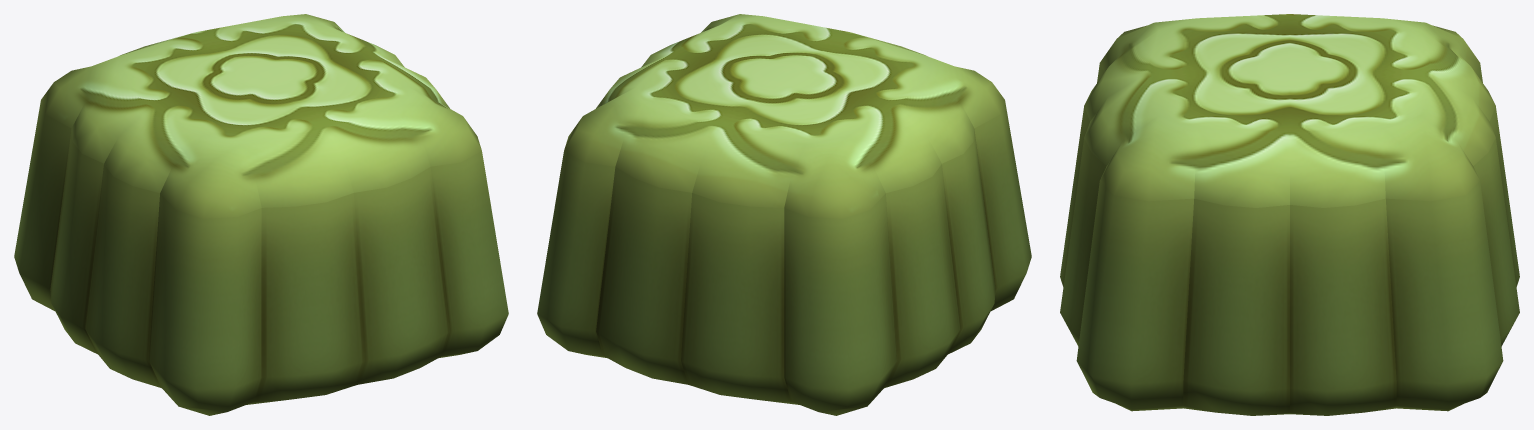
The model's file is 010-Mooncakes_004.FBX.
3 views of the same model, side by side, from view 1: azimuth 30°, elevation 25°; view 2: azimuth 150°, elevation 25°; view 3: azimuth 270°, elevation 25° (orthographic). The views are drawn at different scales.
Visible parts, largest first — view 1: 010-Mooncakes_004; view 2: 010-Mooncakes_004; view 3: 010-Mooncakes_004.
Part boxes in pixels (x1,y1,x2,y2): 010-Mooncakes_004: (14, 14, 508, 415); 010-Mooncakes_004: (537, 14, 1031, 415); 010-Mooncakes_004: (1060, 14, 1519, 415).
Bounding box in the file's own units: 12.03 × 8.16 × 12.1.
